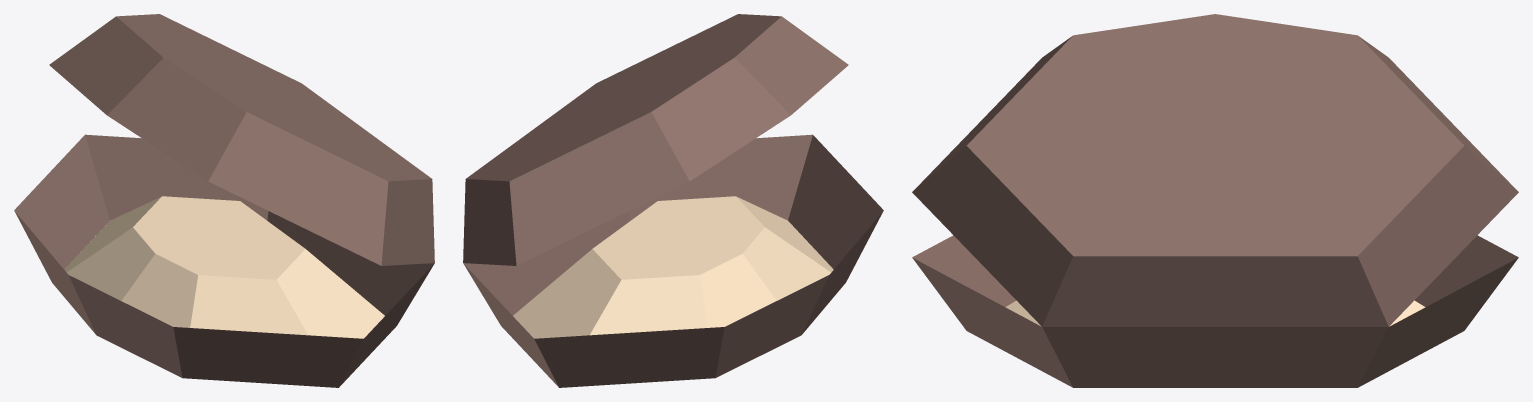
3 views of the same model, side by side, from view 1: azimuth 30°, elevation 25°; view 2: azimuth 150°, elevation 25°; view 3: azimuth 270°, elevation 25° (orthographic). The views are drawn at different scales.
Visible parts, largest first — view 1: musselOpen; view 2: musselOpen; view 3: musselOpen.
Part boxes in pixels (x1=…): musselOpen: x1=14, y1=14, x2=434, y2=387; musselOpen: x1=463, y1=14, x2=883, y2=387; musselOpen: x1=912, y1=14, x2=1518, y2=387.
Bounding box in the file's own units: 0.0961 × 0.0804 × 0.1554.
